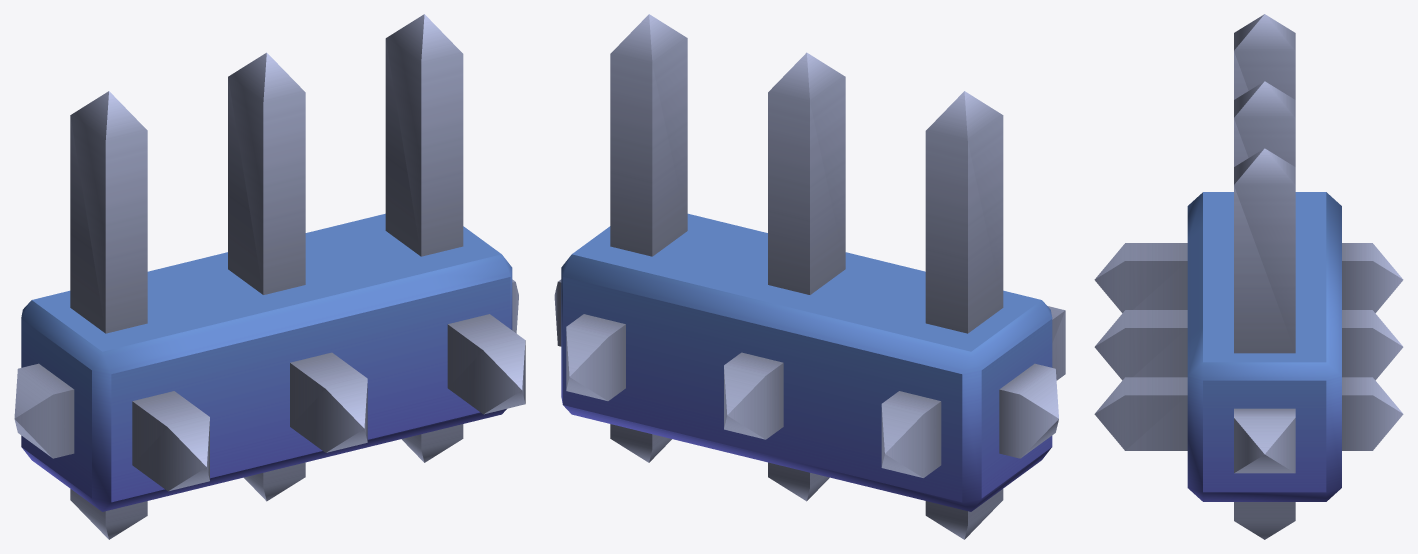
The model's file is pole.glb.
3 views of the same model, side by side, from view 1: azimuth 30°, elevation 25°; view 2: azimuth 150°, elevation 25°; view 3: azimuth 270°, elevation 25° (orthographic). The views are drawn at different scales.
Parts seen in each view (by area): view 1: spike-block-wide; view 2: spike-block-wide; view 3: spike-block-wide.
Boxes of the visible parts, bbox=[...] form: spike-block-wide: bbox=[14, 14, 525, 539]; spike-block-wide: bbox=[554, 14, 1065, 539]; spike-block-wide: bbox=[1094, 14, 1403, 539].
Size of the model in its own units: 1.03 by 0.8752 by 0.6261.
Materials: 1 (1 with a texture image).
